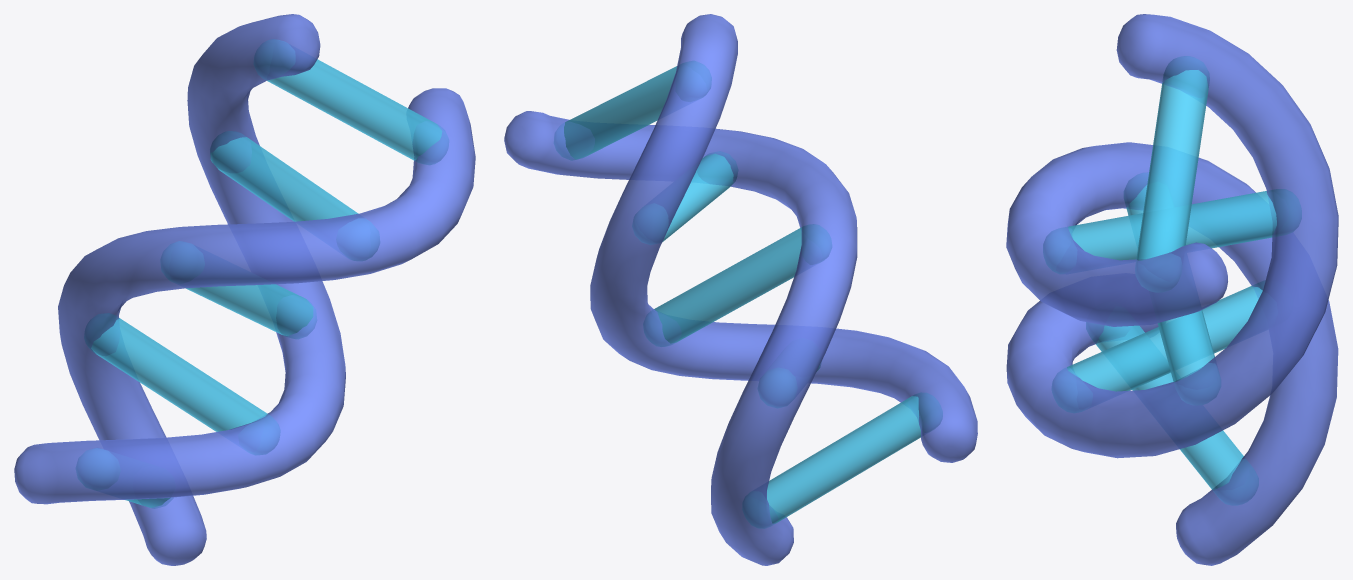
File: 3d-dna.glb
The picture shows the model from 3 angles, left to right: view 1: azimuth 30°, elevation 25°; view 2: azimuth 150°, elevation 25°; view 3: azimuth 270°, elevation 25°; orthographic projection. The views are drawn at different scales.
Visible parts, largest first — view 1: Spiral, DNA, Cylinder.011; view 2: DNA, Spiral, Cylinder.011; view 3: DNA, Spiral, Cylinder.011.
Part boxes in pixels (<box>): Spiral: <box>58,88,475,565</box>; DNA: <box>14,14,345,504</box>; Cylinder.011: <box>76,39,448,508</box>; DNA: <box>590,14,977,462</box>; Spiral: <box>504,111,857,565</box>; Cylinder.011: <box>554,61,942,528</box>; DNA: <box>1006,14,1338,458</box>; Spiral: <box>1006,142,1338,565</box>; Cylinder.011: <box>1043,56,1301,505</box>.
Bounding box in the file's own units: 4.72 × 5.2 × 2.65.
